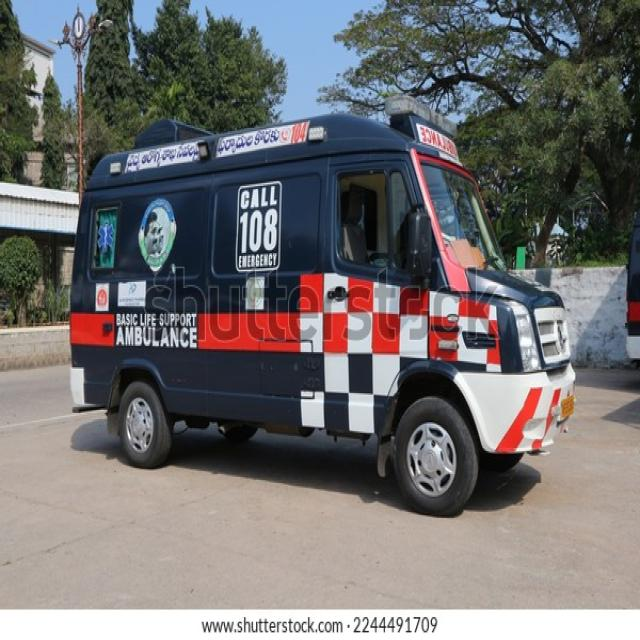ambulance: (65, 110, 576, 516)
